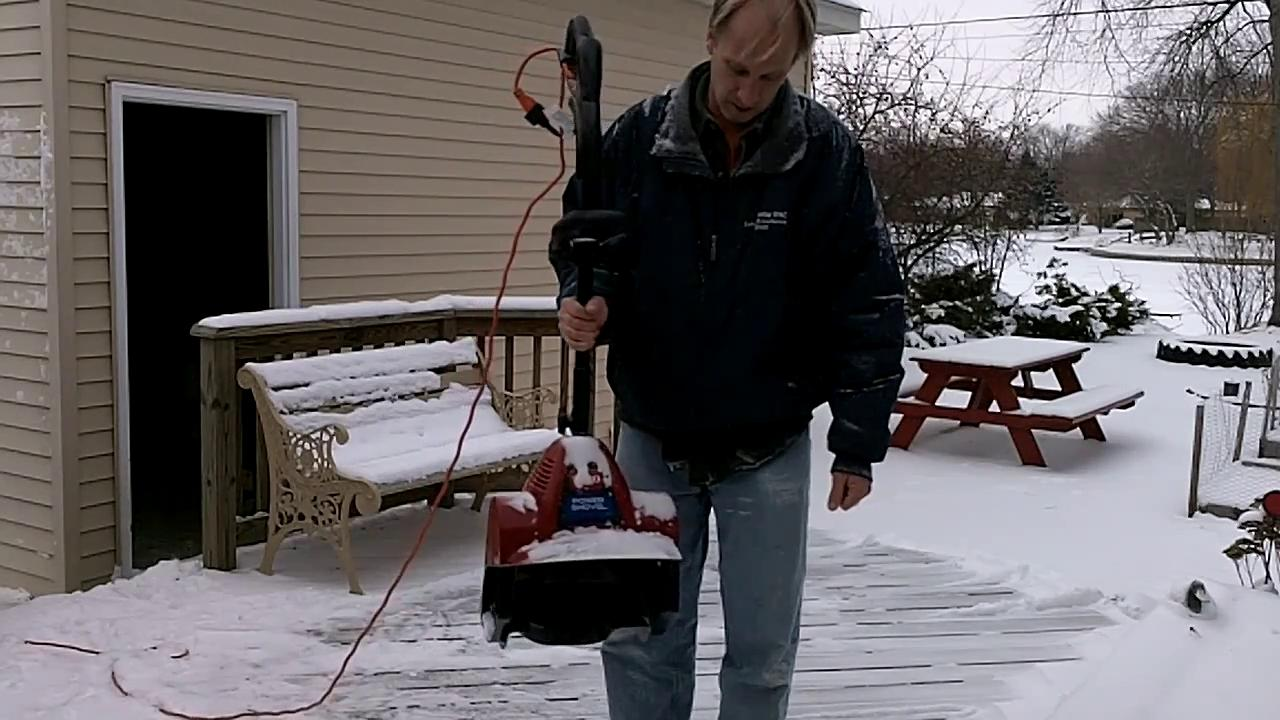victim: (544, 0, 906, 719)
